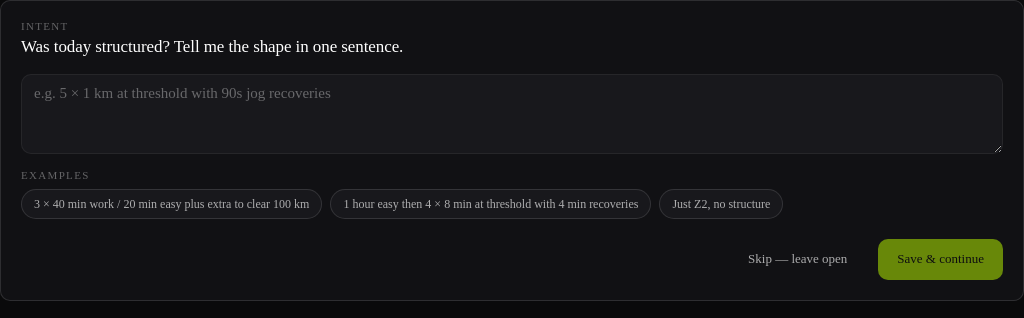
Test: IntentCaptureForm › clicking an example chip populates the textarea and enables Save
The width and height of the screenshot is (1024, 318).
Expected: the text box named "session intent" is empty, [21,74,1003,154]
What coordinates should you click on to do the following:
click the button "1 hour easy then 4 × 8 min at threshold with 4 min recoveries"
I would click on:
 (491, 204)
Its box is [330,189,651,219].
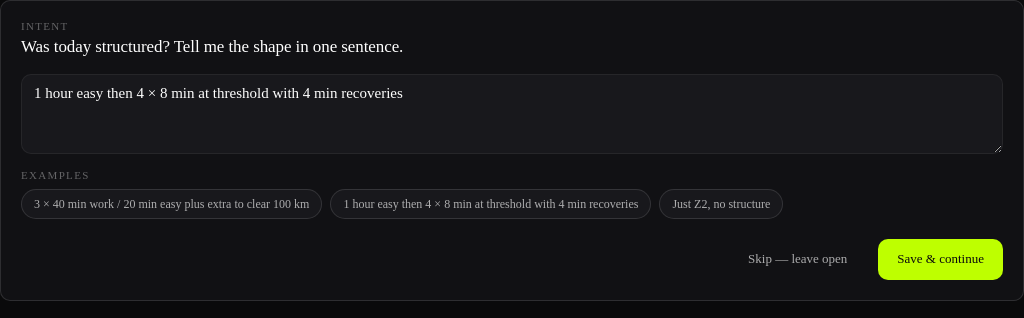
Expected: the text box named "session intent" holds "1 hour easy then 4 × 8 min at threshold with 4 min recoveries", [21,74,1003,154]
Expected: the button "Save & continue" is enabled, [878,239,1003,280]
